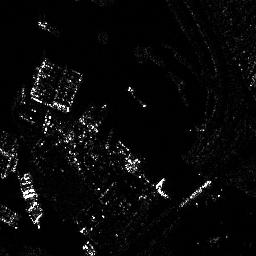ship: (179, 180, 214, 207)
